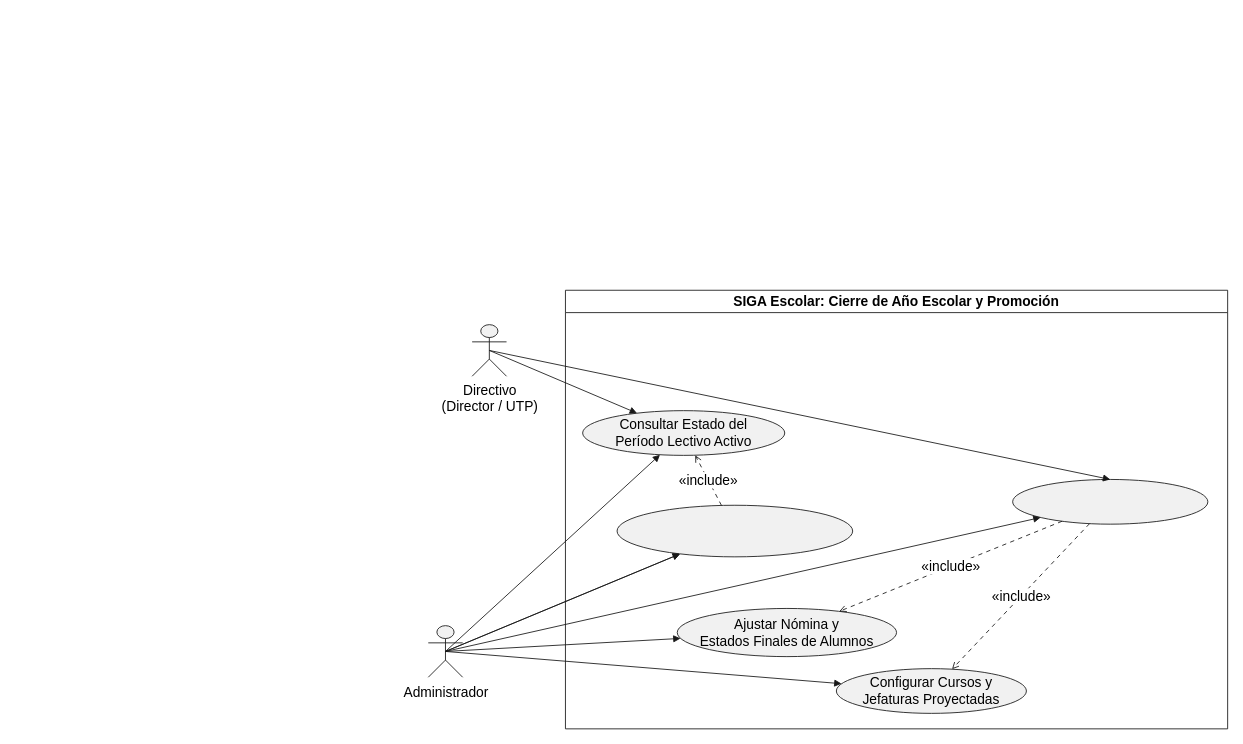
This 1243x744 diagram has some shape labels left out. Each missing label, with the centre of its shape:
Ejecutar Cierre de Año y Promoción Masiva: the point at 1110,501
Generar Propuesta Algorítmica de Promoción: the point at 734,530
